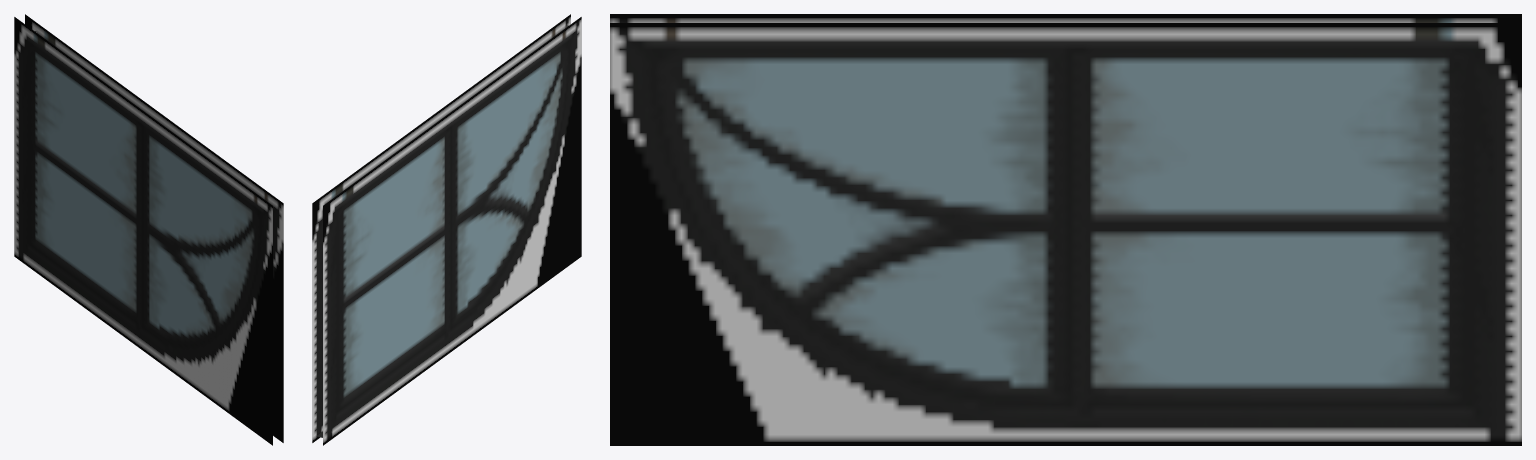
File: pz_native_fixtures_windows_metal_2_frame.obj
3 renders of one model, left to right at view 1: azimuth 30°, elevation 25°; view 2: azimuth 150°, elevation 25°; view 3: azimuth 270°, elevation 25°, orthographic. The views are drawn at different scales.
Parts seen in each view (by area): view 1: pz_native_fixtures_windows_metal_2_frame; view 2: pz_native_fixtures_windows_metal_2_frame; view 3: pz_native_fixtures_windows_metal_2_frame.
Part boxes in pixels (bbox=[...]): pz_native_fixtures_windows_metal_2_frame: bbox=[14, 14, 283, 445]; pz_native_fixtures_windows_metal_2_frame: bbox=[312, 14, 581, 445]; pz_native_fixtures_windows_metal_2_frame: bbox=[610, 14, 1521, 445].
Size of the model in its own units: 0.04 by 0.875 by 1.71.
Materials: 1 (1 with a texture image).
